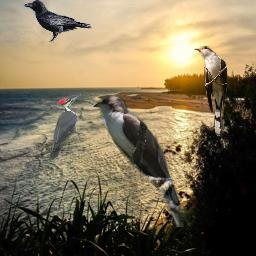Crow: (23, 0, 92, 43)
Cuckoo: (92, 95, 192, 227), (194, 46, 228, 137)
Woodpecker: (46, 94, 84, 160)
